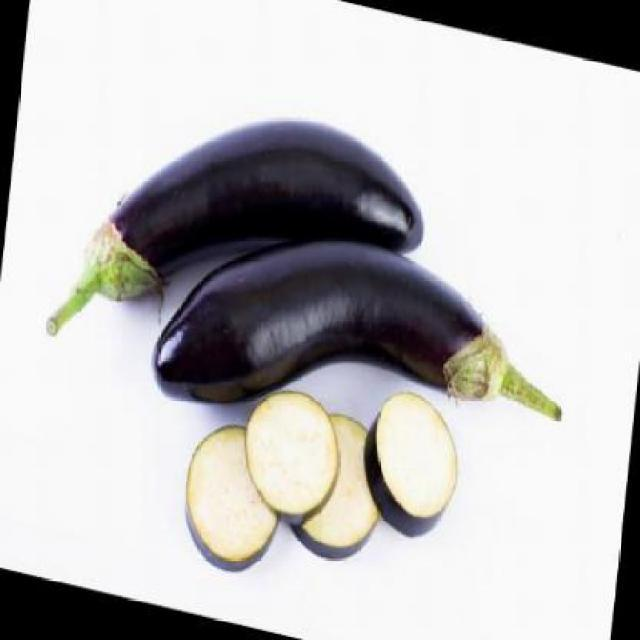eggplant: (147, 196, 575, 490), (43, 114, 430, 420), (176, 413, 290, 582), (356, 383, 466, 548), (283, 405, 391, 570), (239, 380, 347, 534)
